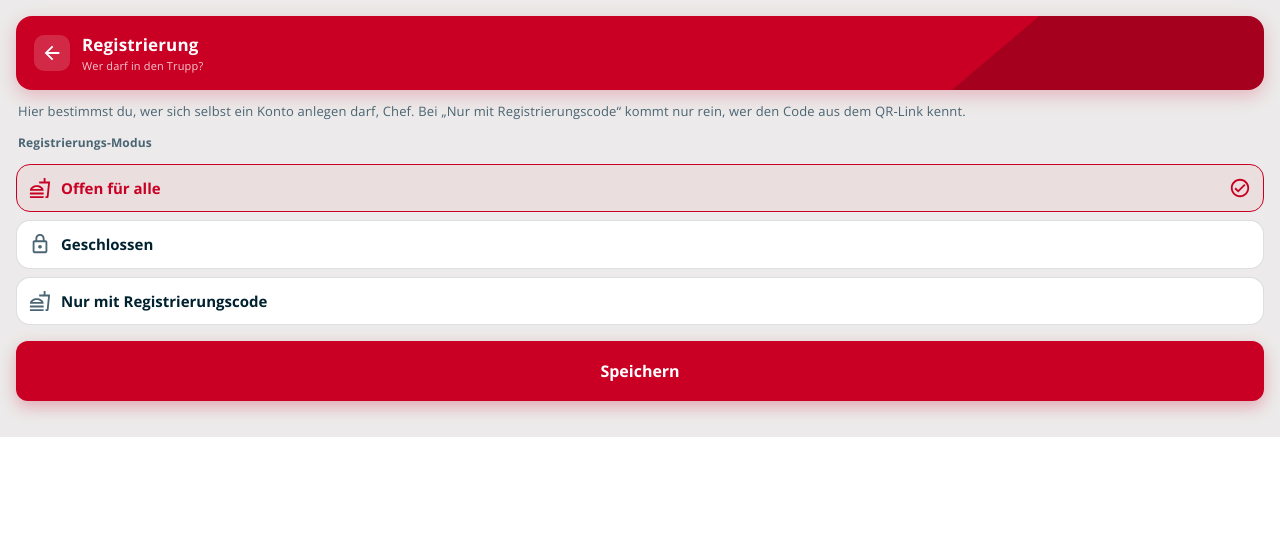
AdminRegistrationModePage › blockiert das Speichern von „Nur mit Registrierungscode“ ohne Code
Click the radio button labelled "Nur mit Registrierungscode" at (164, 300), box [16, 276, 1264, 325]
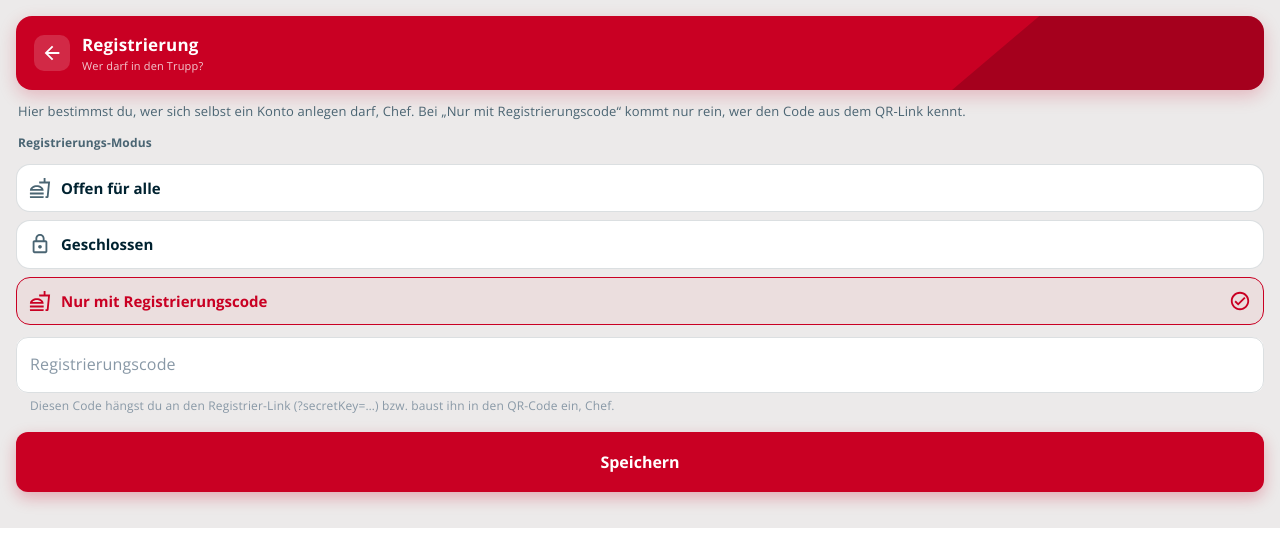
Click the button "Speichern" at (640, 462), box [16, 432, 1264, 492]
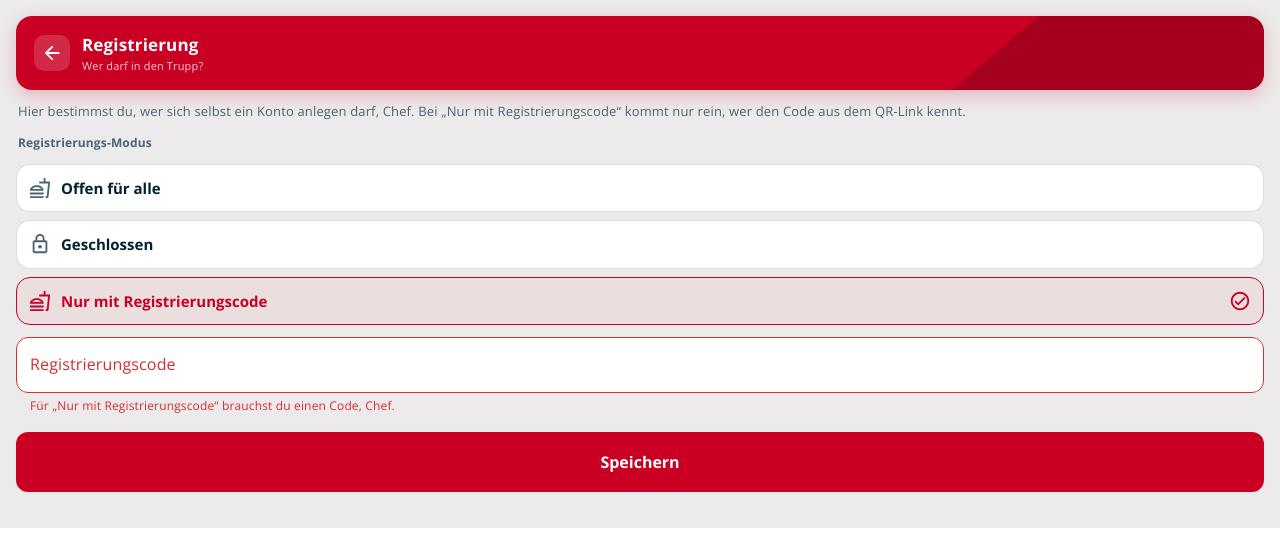
Check: the text "Für „Nur mit Registrierungscode“ brauchst du einen Code, Chef." is shown, box [30, 397, 395, 414]
